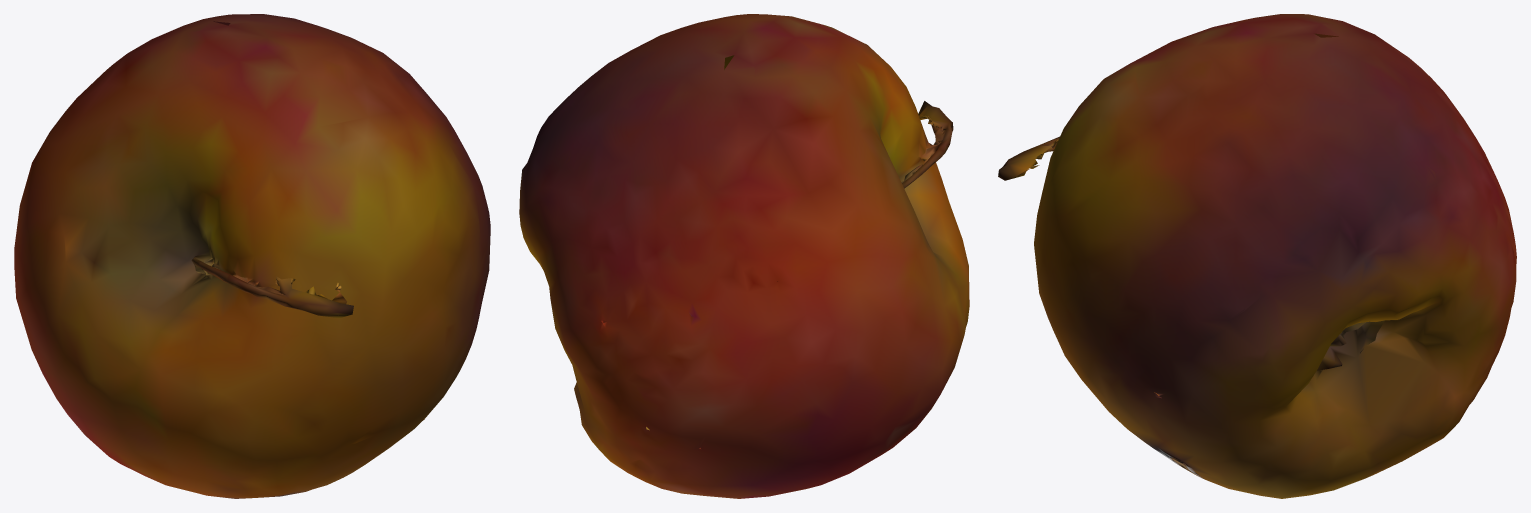
File: textured_simple.obj
The picture shows the model from 3 angles, left to right: view 1: azimuth 30°, elevation 25°; view 2: azimuth 150°, elevation 25°; view 3: azimuth 270°, elevation 25°; orthographic projection.
Size of the model in its own units: 7.55 by 7.78 by 8.37.
